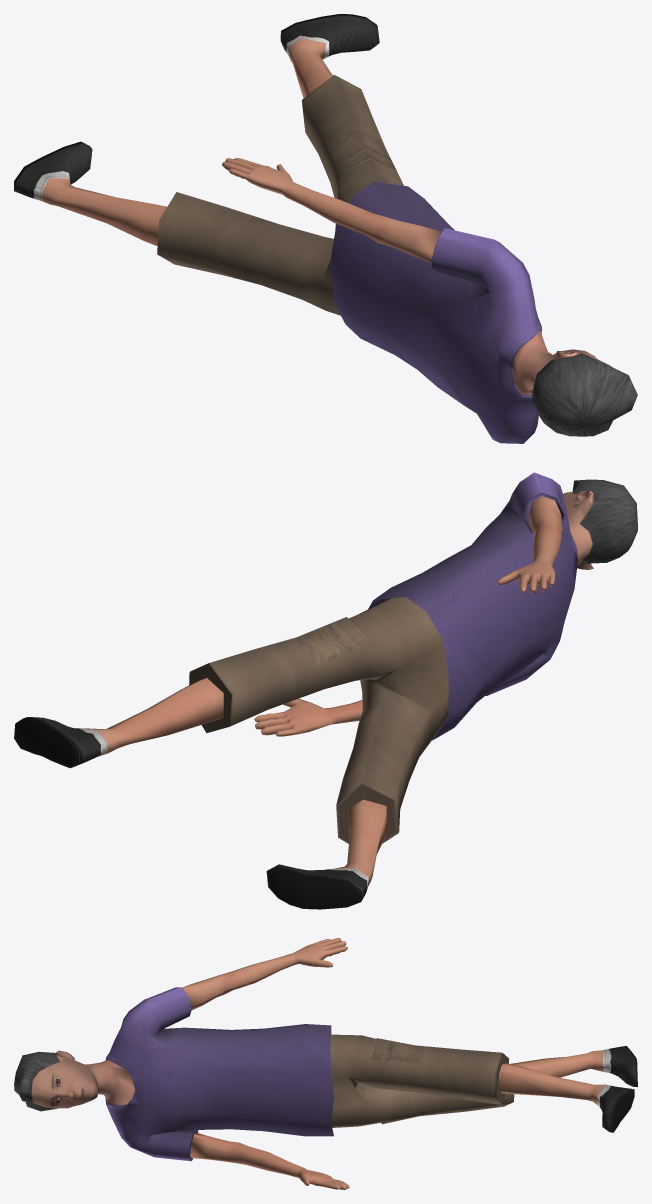
File: walk.obj
3 renders of one model, top to bottom at view 1: azimuth 30°, elevation 25°; view 2: azimuth 150°, elevation 25°; view 3: azimuth 270°, elevation 25°, orthographic. The views are drawn at different scales.
Bounding box in the file's own units: 0.8301 × 0.5023 × 1.74.
1 material, 1 textured.
